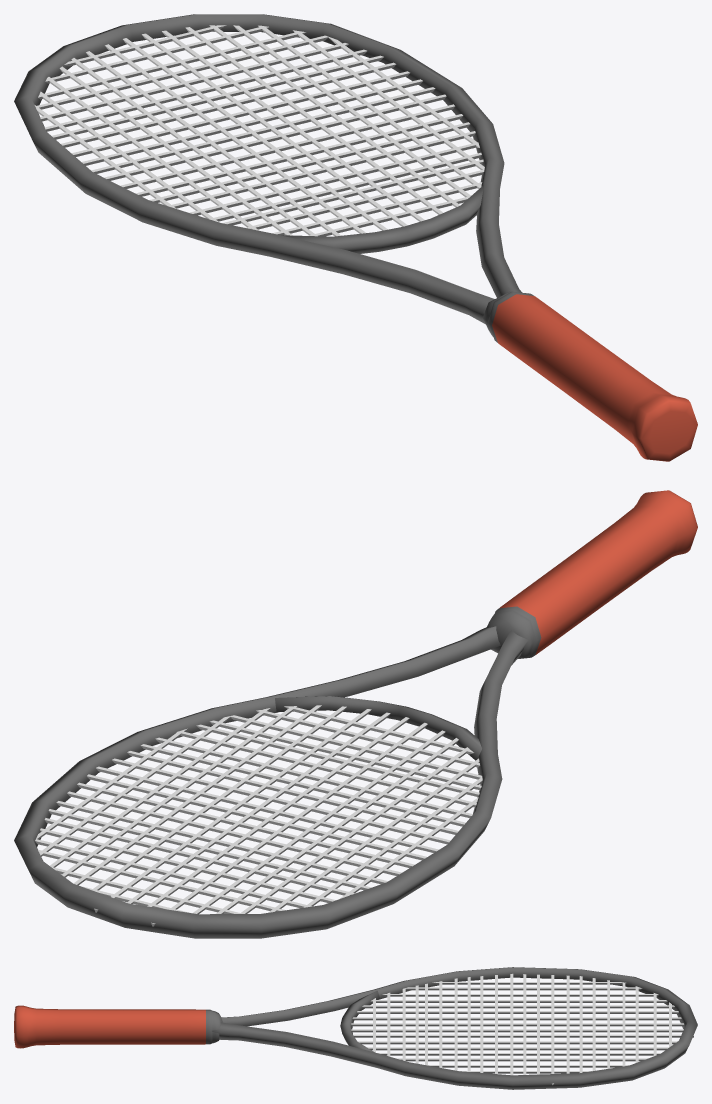
File: TennisRacket.fbx
3 renders of one model, top to bottom at view 1: azimuth 30°, elevation 25°; view 2: azimuth 150°, elevation 25°; view 3: azimuth 270°, elevation 25°, orthographic. The views are drawn at different scales.
Visible parts, largest first — view 1: Cube.1755; view 2: Cube.1755; view 3: Cube.1755.
Boxes of the visible parts, x1=… form: Cube.1755: x1=14, y1=14, x2=697, y2=461; Cube.1755: x1=14, y1=490, x2=697, y2=938; Cube.1755: x1=14, y1=967, x2=697, y2=1089.
Size of the model in its own units: 43.58 by 6.85 by 109.
